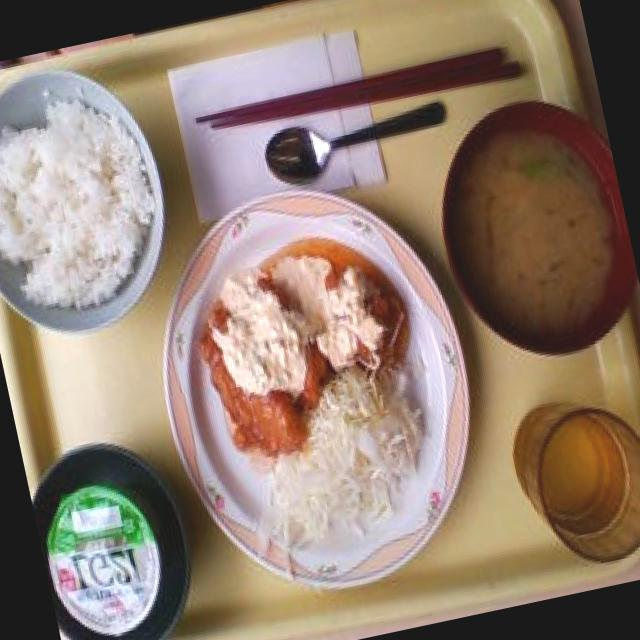Rice: (0, 78, 176, 322)
